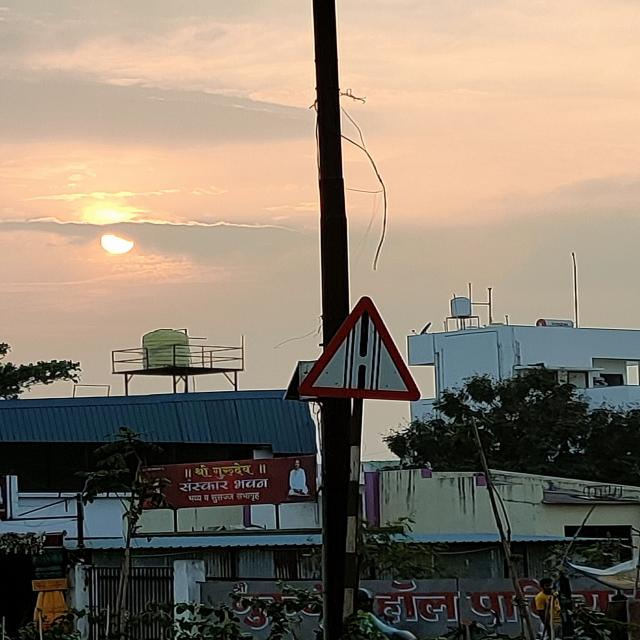ferry: (294, 294, 421, 400)
